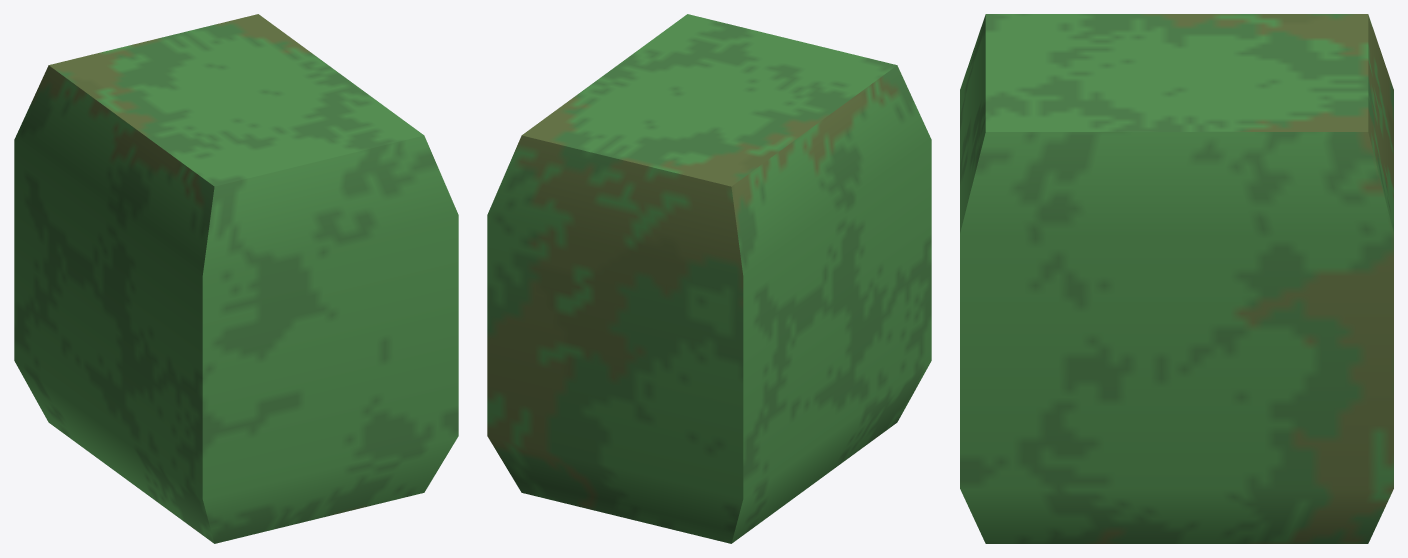
File: RockPieceB.fbx
3 renders of one model, left to right at view 1: azimuth 30°, elevation 25°; view 2: azimuth 150°, elevation 25°; view 3: azimuth 270°, elevation 25°, orthographic. The views are drawn at different scales.
Parts seen in each view (by area): view 1: RockPieceB; view 2: RockPieceB; view 3: RockPieceB.
Boxes of the visible parts, <box> form: RockPieceB: <box>14,14,458,543</box>; RockPieceB: <box>487,14,931,543</box>; RockPieceB: <box>960,14,1393,543</box>.
Bounding box in the file's own units: 271 × 362 × 345.
